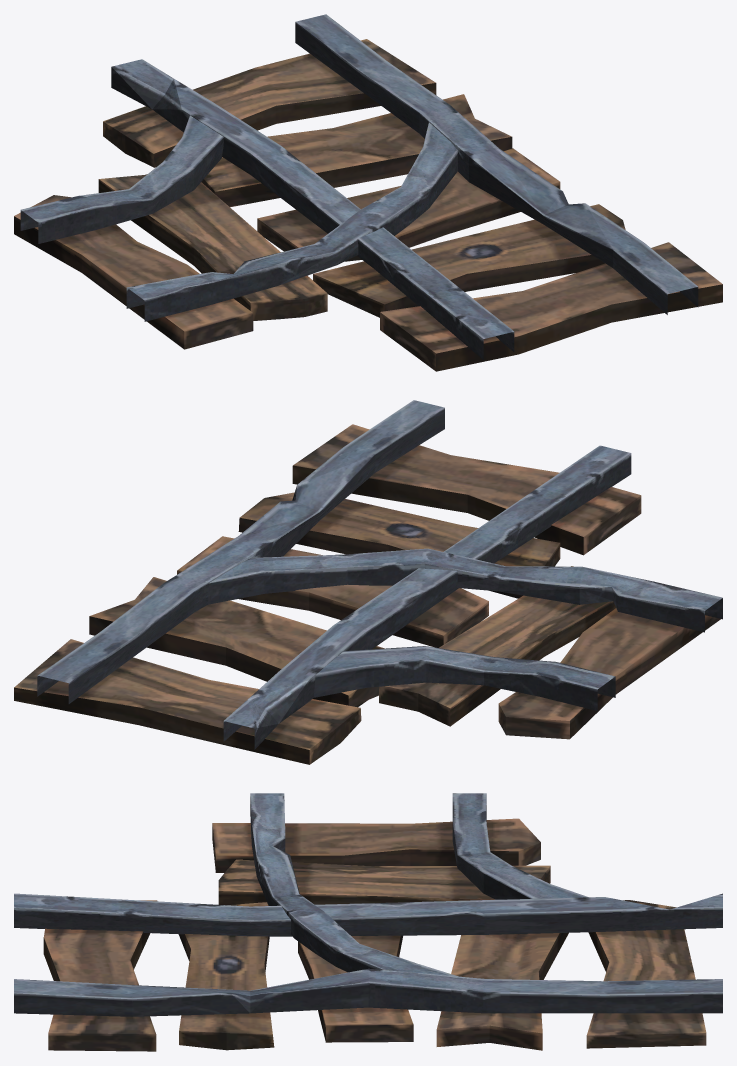
Rendered from mine_track_t.fbx.
The picture shows the model from 3 angles, top to bottom: view 1: azimuth 30°, elevation 25°; view 2: azimuth 150°, elevation 25°; view 3: azimuth 270°, elevation 25°; orthographic projection. The views are drawn at different scales.
Parts seen in each view (by area): view 1: obj0.103; view 2: obj0.103; view 3: obj0.103.
Boxes of the visible parts, x1,y1,x2,y2 form: obj0.103: (14, 14, 722, 371); obj0.103: (14, 400, 722, 764); obj0.103: (14, 793, 722, 1051).
Size of the model in its own units: 2.95 by 0.2947 by 4.
